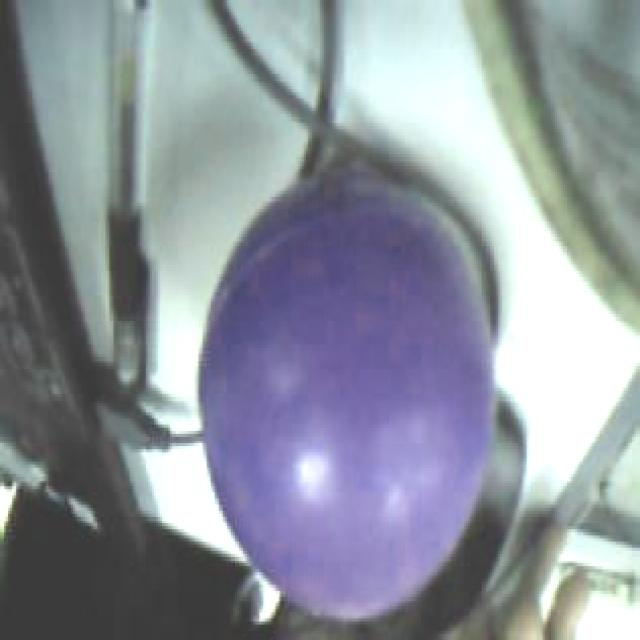BallPurple: (195, 174, 495, 622)
